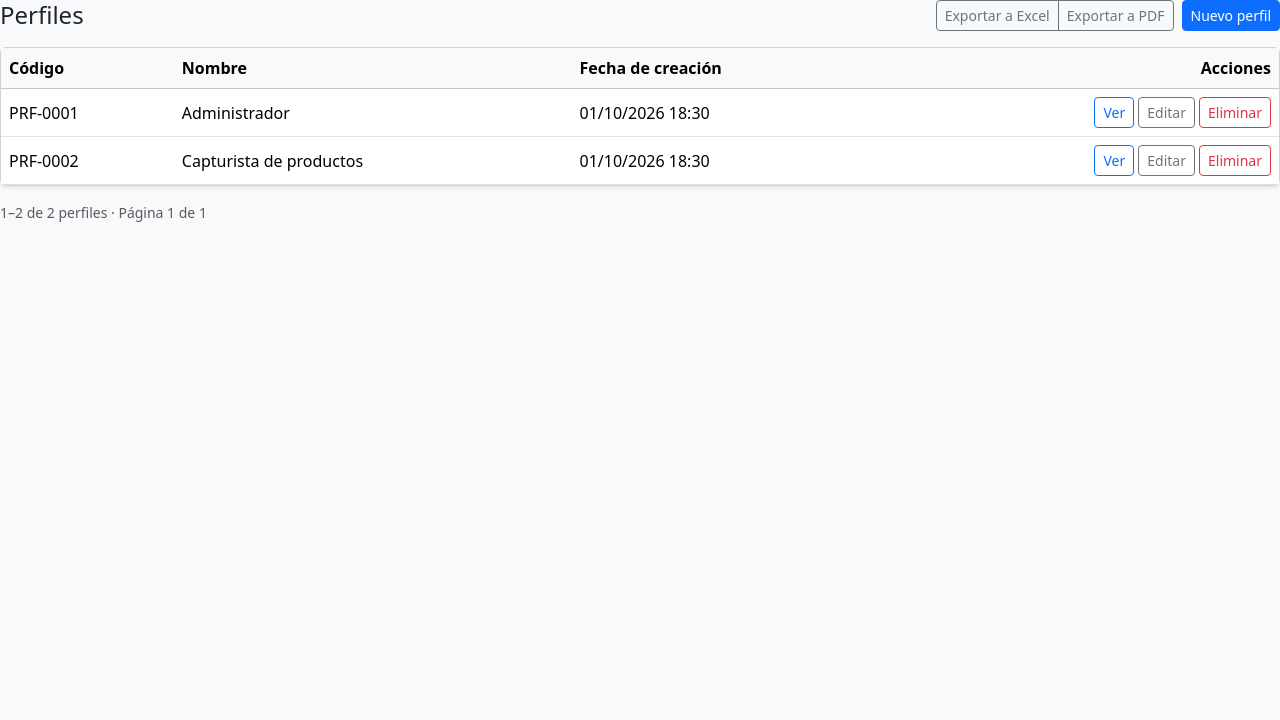
Scenario: ProfileListComponent › si el perfil está asignado a usuarios (409), muestra el motivo y no lo quita de la tabla
Click the button "Eliminar" in the row of "PRF-0001": (1235,112) [1199, 97, 1271, 128]
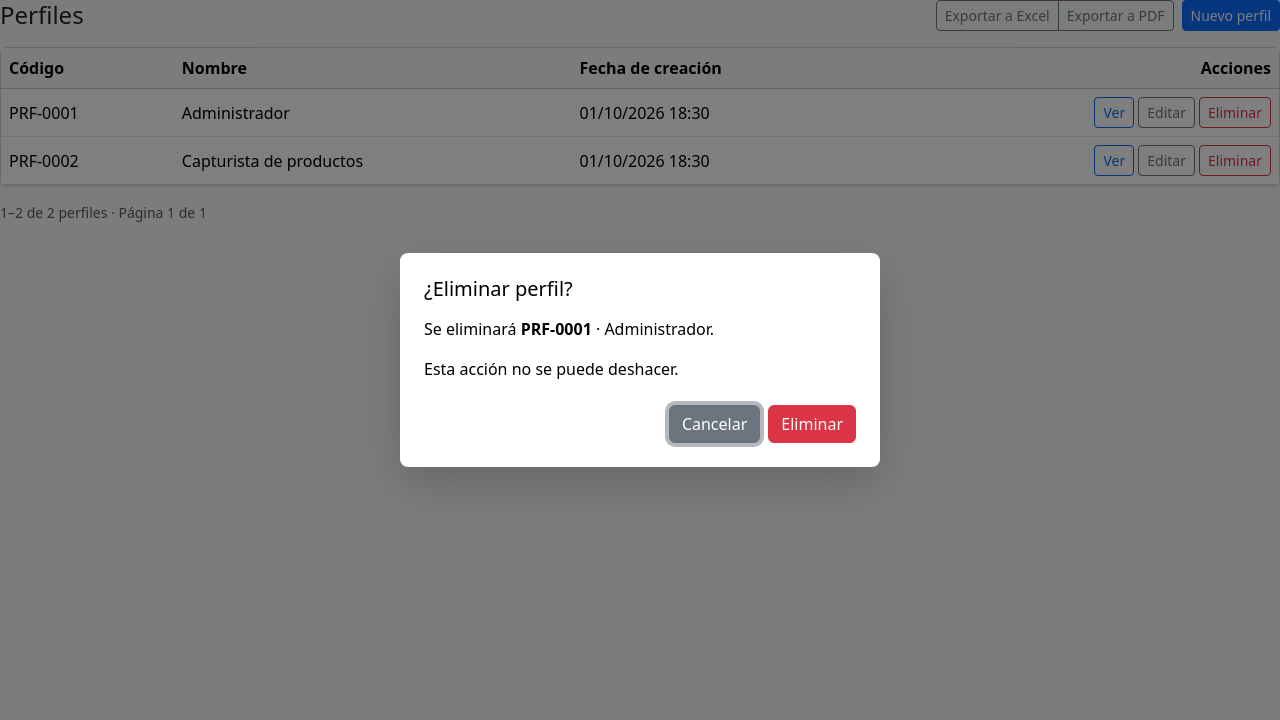
Click the button with class "btn-danger": (812,424) [768, 405, 856, 443]
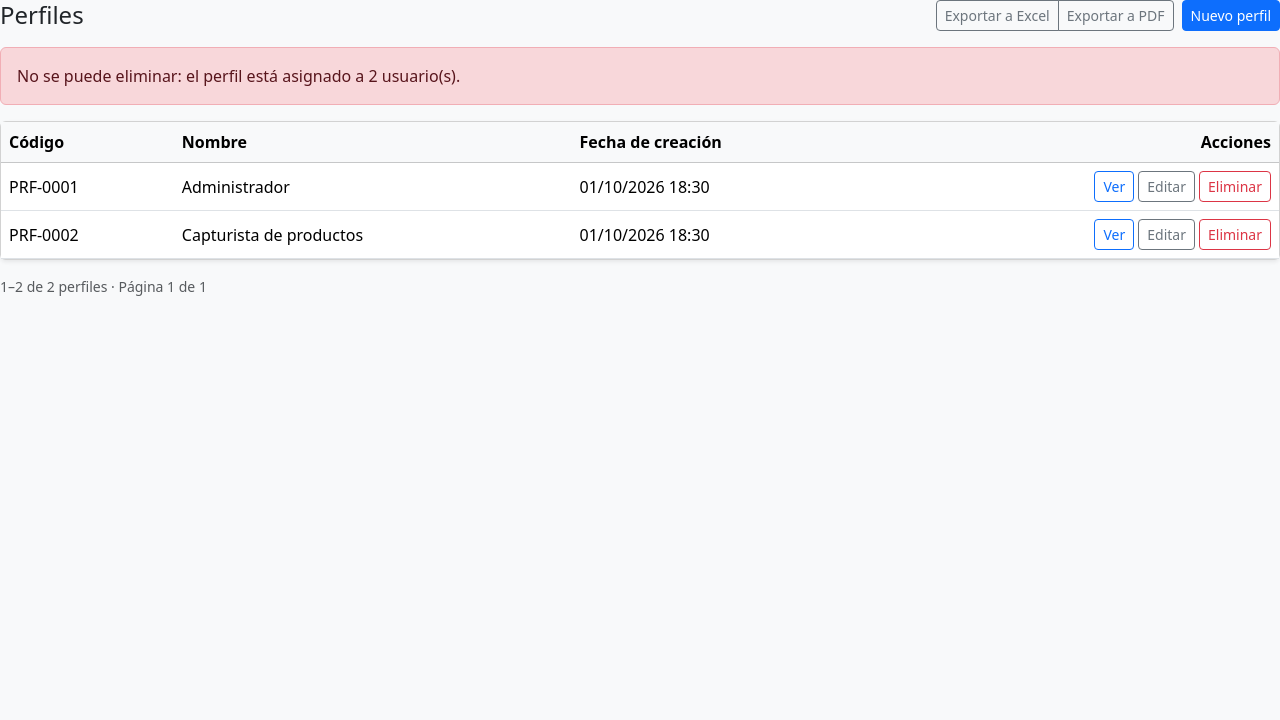
Check: the message "No se puede eliminar: el perfil está asignado a 2 usuario(s)." is shown, box [0, 47, 1279, 105]
